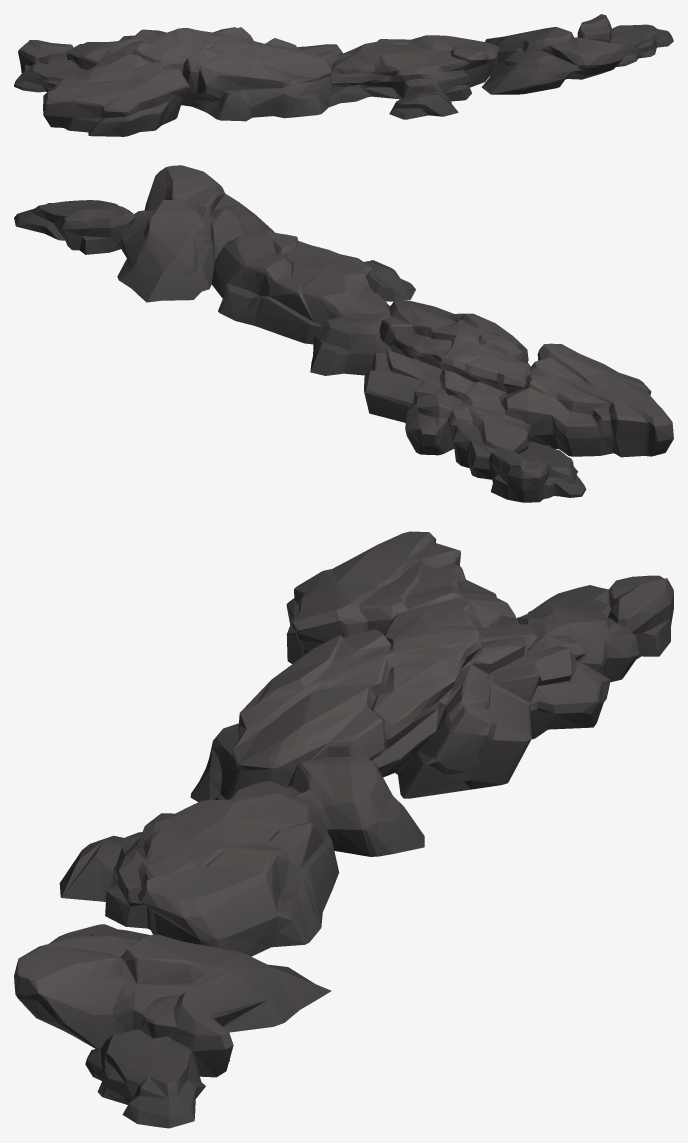
The model's file is ZLP_Rock_E_1.FBX.
3 renders of one model, top to bottom at view 1: azimuth 30°, elevation 25°; view 2: azimuth 150°, elevation 25°; view 3: azimuth 270°, elevation 25°, orthographic. The views are drawn at different scales.
Parts seen in each view (by area): view 1: ZLP_Rock_E_1; view 2: ZLP_Rock_E_1; view 3: ZLP_Rock_E_1.
Boxes of the visible parts, x1=… form: ZLP_Rock_E_1: x1=14, y1=14, x2=673, y2=136; ZLP_Rock_E_1: x1=14, y1=165, x2=673, y2=502; ZLP_Rock_E_1: x1=14, y1=531, x2=673, y2=1128.
Bounding box in the file's own units: 1542 × 130 × 788.
